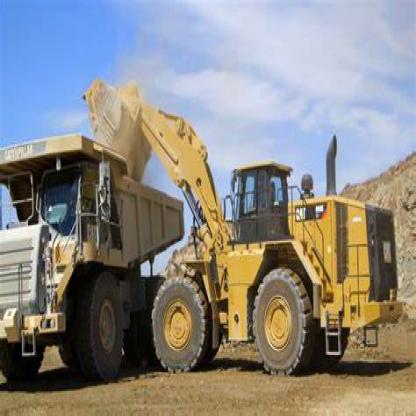bull_dozer/loader/grader: (81, 76, 406, 370)
dump_truck: (0, 136, 190, 407)
